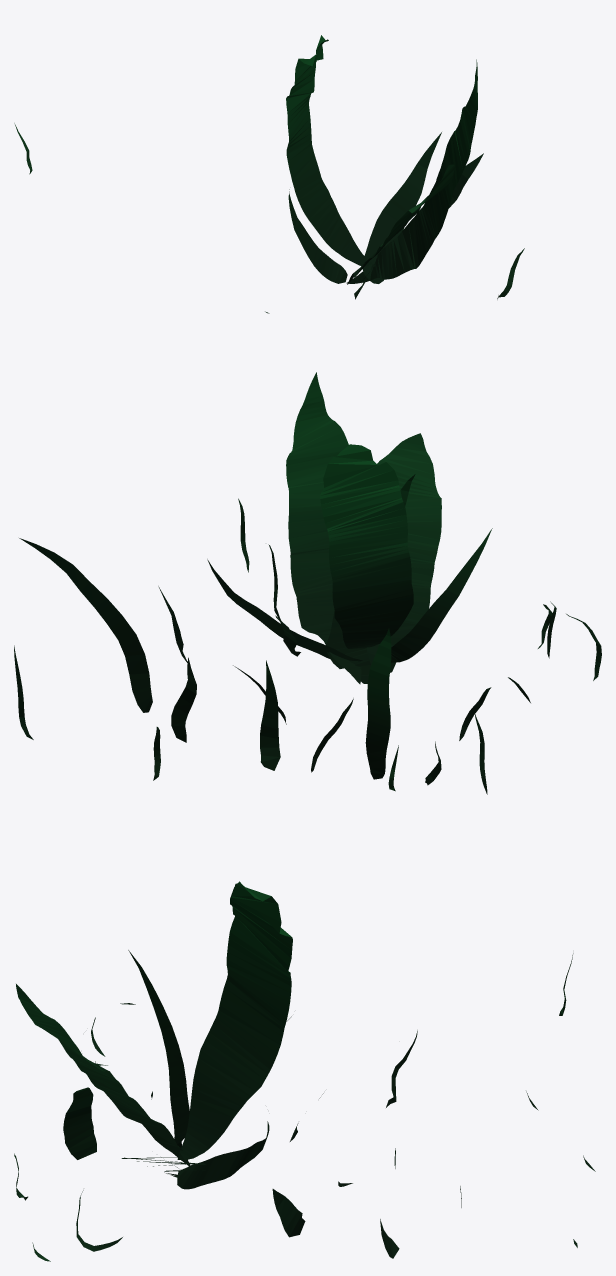
Rendered from Grass01.fbx.
3 views of the same model, one above another, from view 1: azimuth 30°, elevation 25°; view 2: azimuth 150°, elevation 25°; view 3: azimuth 270°, elevation 25° (orthographic). The views are drawn at different scales.
Visible parts, largest first — view 1: Grass001; view 2: Grass001; view 3: Grass001.
Part boxes in pixels (x1,y1,x2,y2): Grass001: (14, 35, 524, 313); Grass001: (14, 372, 601, 794); Grass001: (14, 881, 595, 1261).
Bounding box in the file's own units: 0.8348 × 0.4697 × 0.7969.
